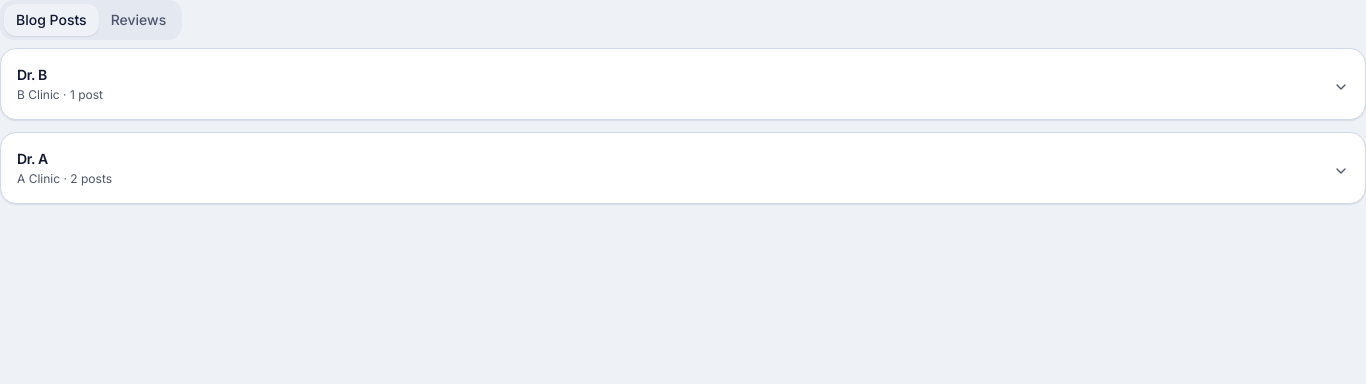
Test: SAModeration blog grouping › expands a doctor's card on click to reveal their posts
The image size is (1366, 384).
Click the text "Dr. A" at (32, 158), box [17,150,48,167]
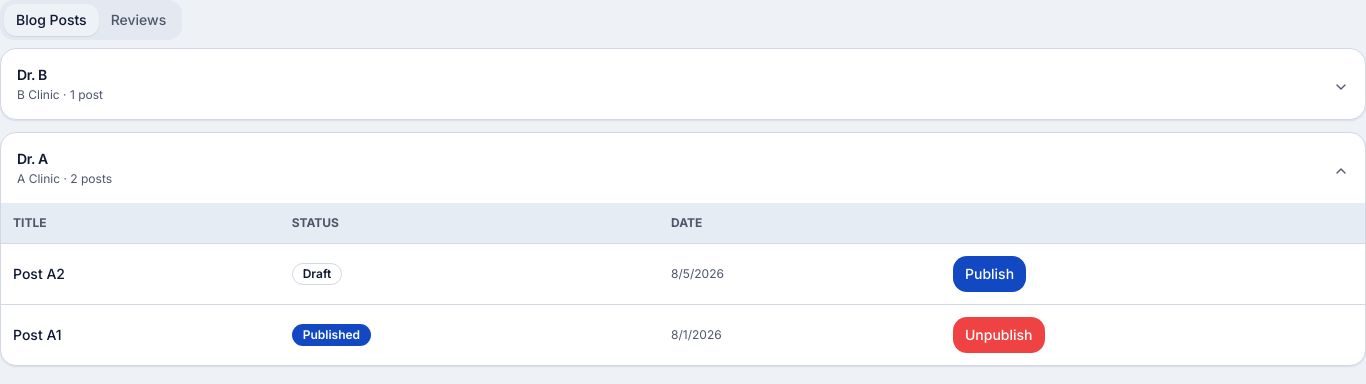
Expected: the text "Post A1" is shown, [1,304,280,365]
Expected: the text "Post A2" is shown, [1,244,280,304]
